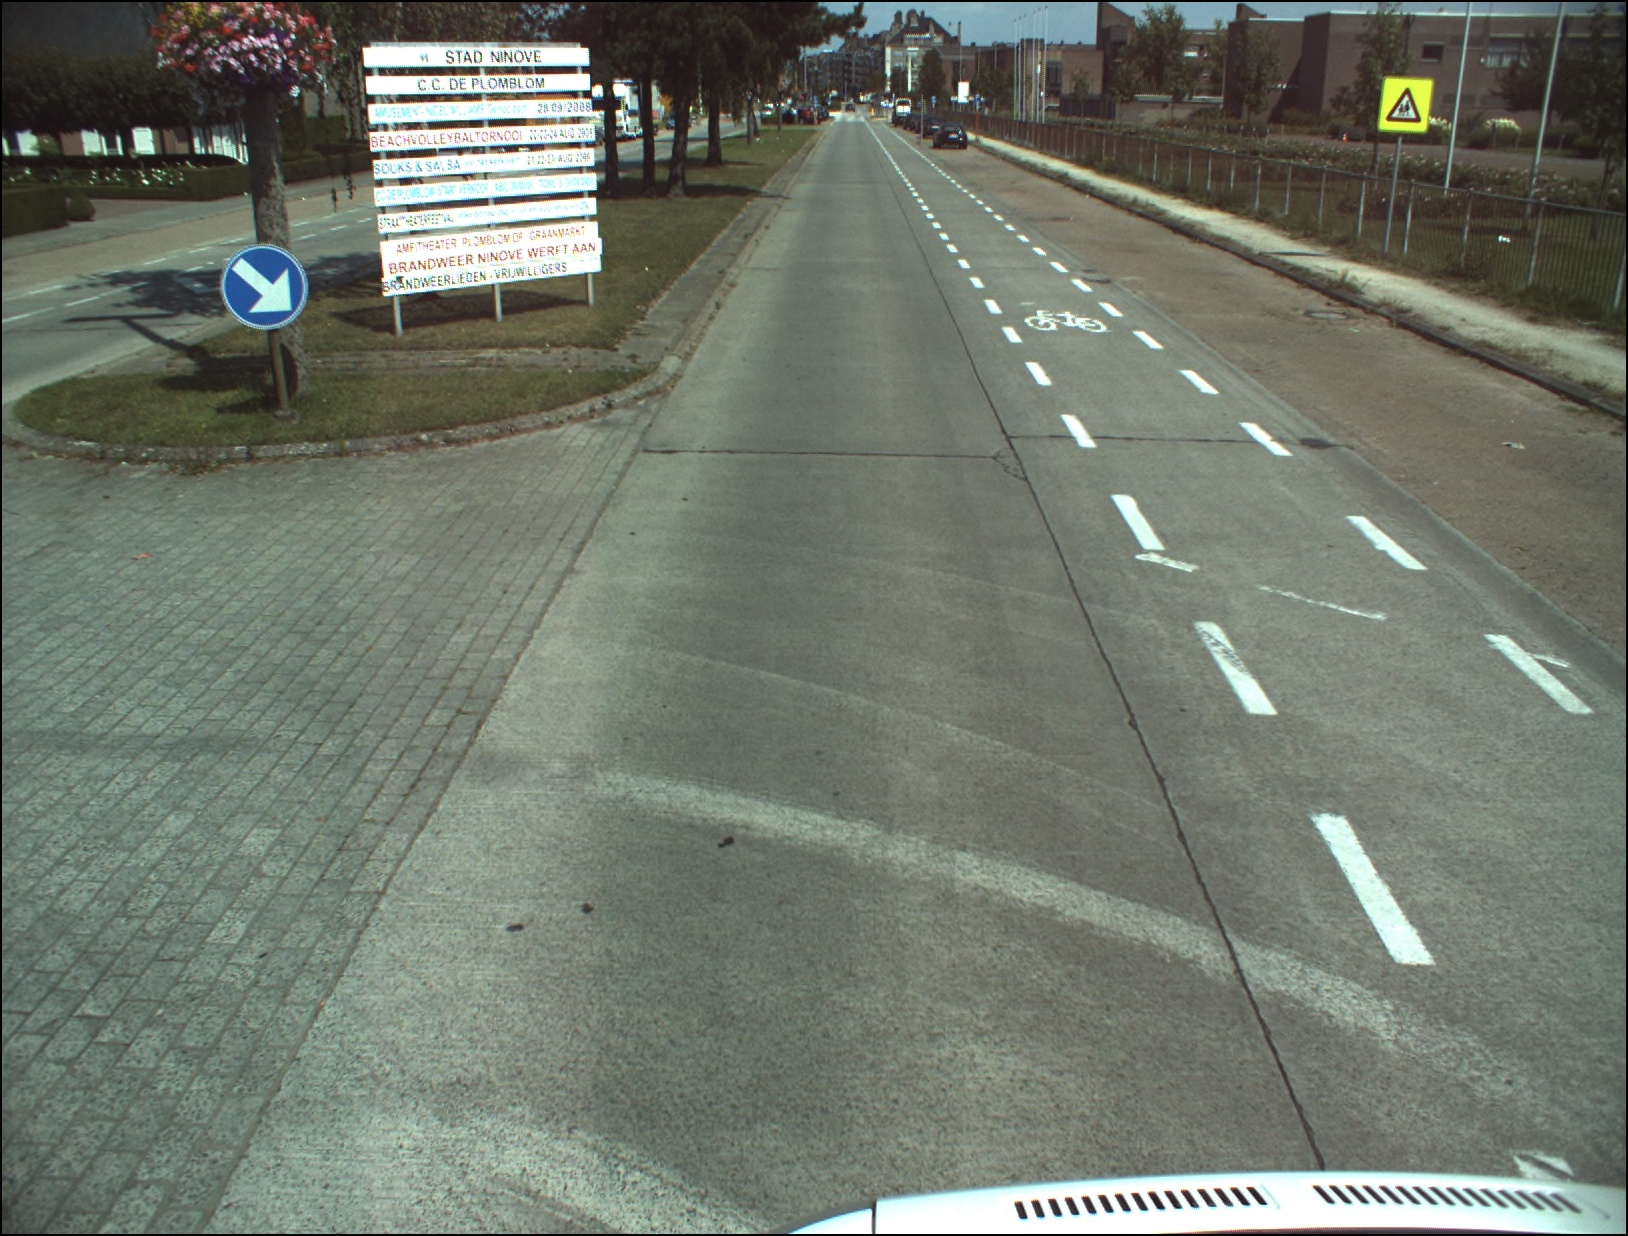children: (1387, 86, 1423, 123)
passright: (220, 248, 306, 328)
